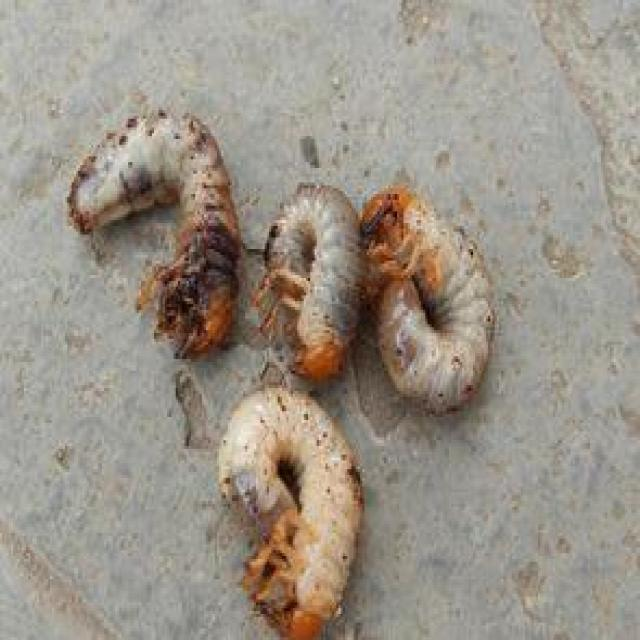Grub-Adult-: (77, 87, 238, 355), (216, 367, 368, 635), (362, 177, 506, 440), (227, 149, 371, 394)
